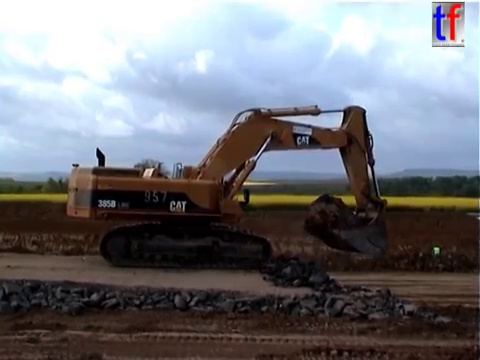excavator: (64, 102, 393, 271)
